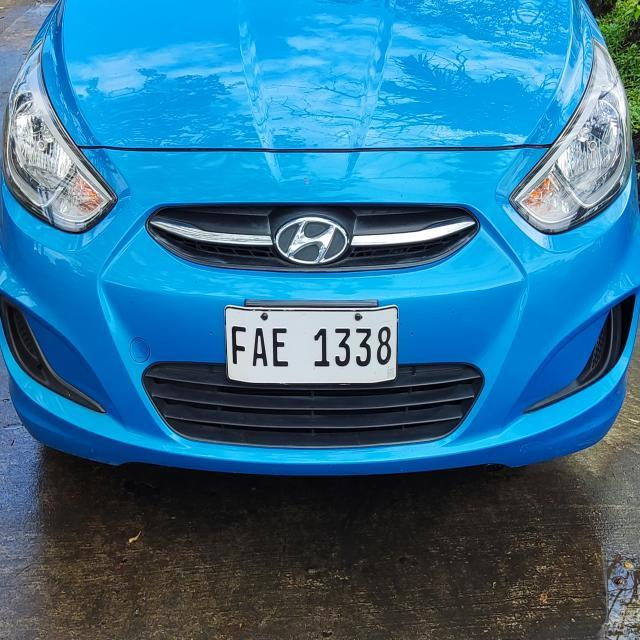LicensePlate: (218, 299, 410, 394)
